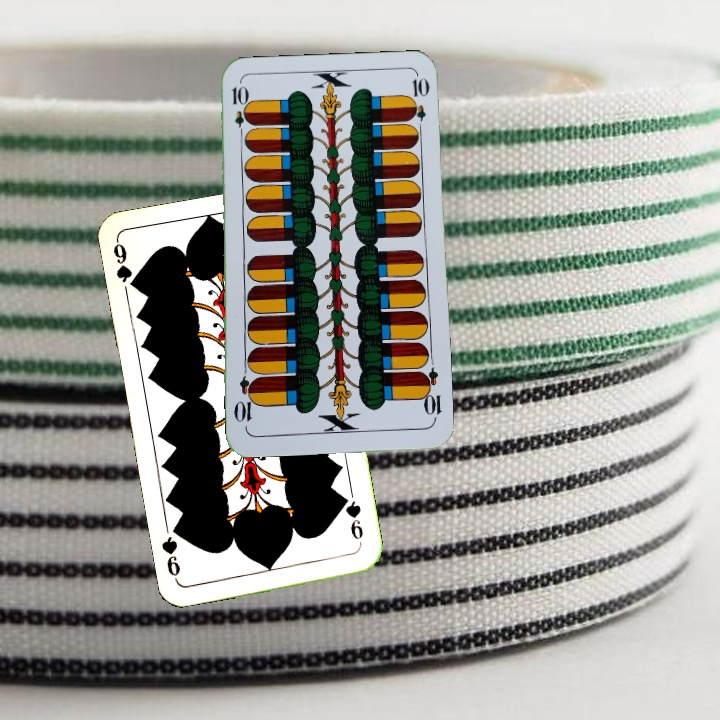E10: (416, 365, 444, 424), (228, 82, 248, 141)
G9: (109, 237, 142, 294), (338, 492, 366, 542)
